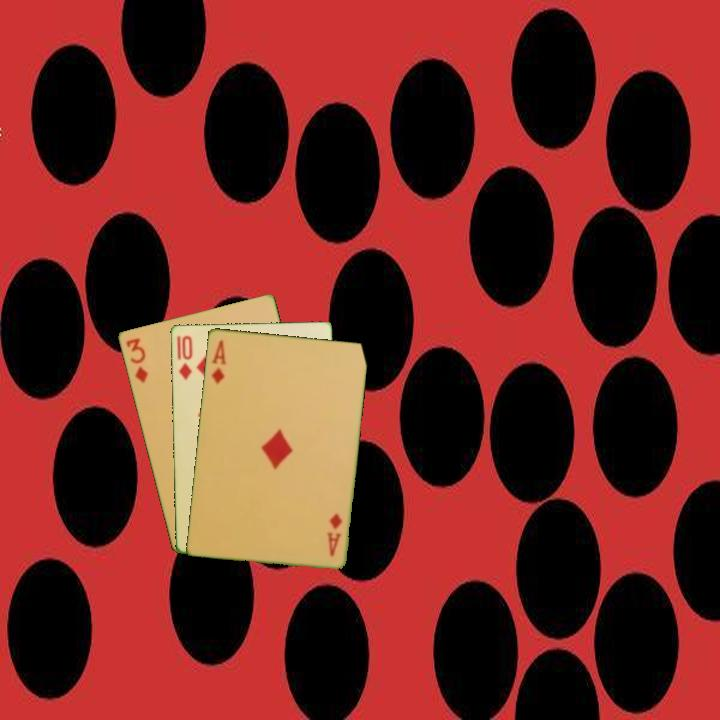10d: (173, 332, 195, 382)
3d: (122, 334, 151, 386)
Ad: (323, 509, 345, 559), (208, 336, 229, 387)
